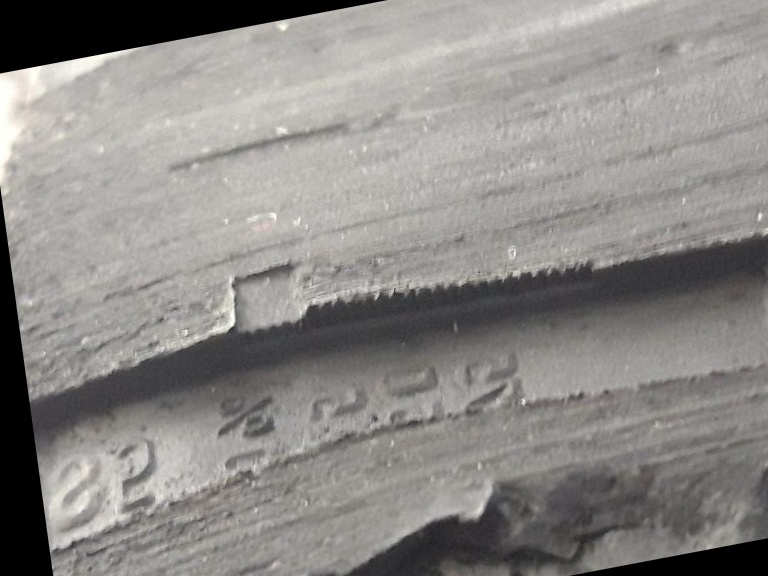temoin:0: (200, 237, 341, 384)
